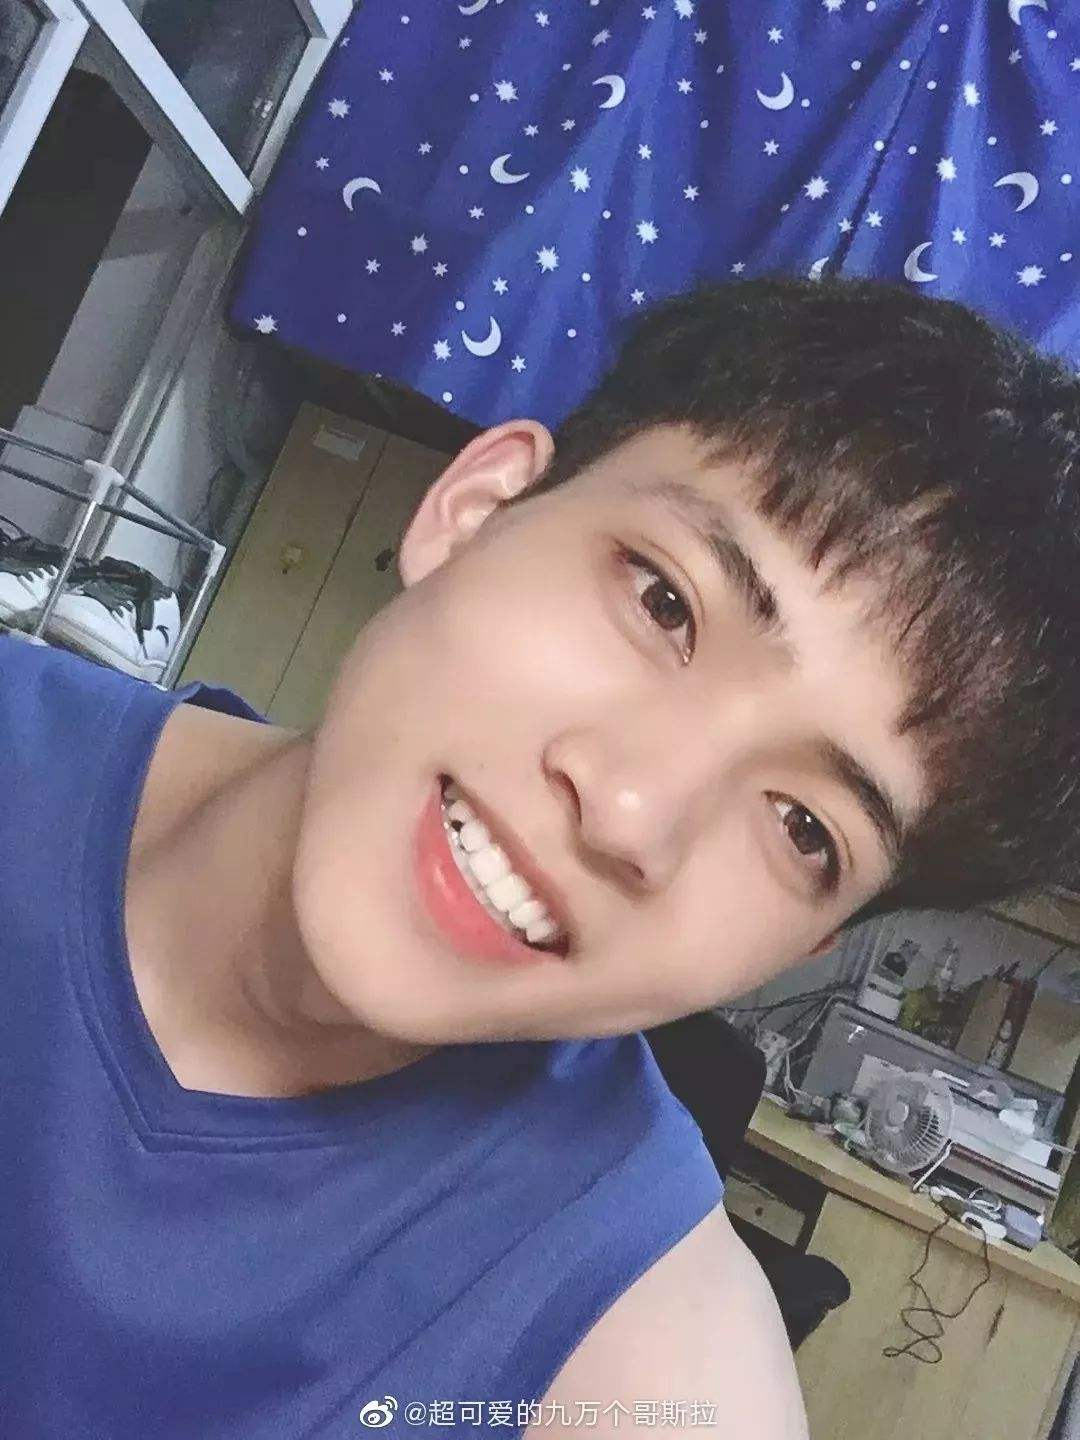person: (210, 205, 1068, 1165)
